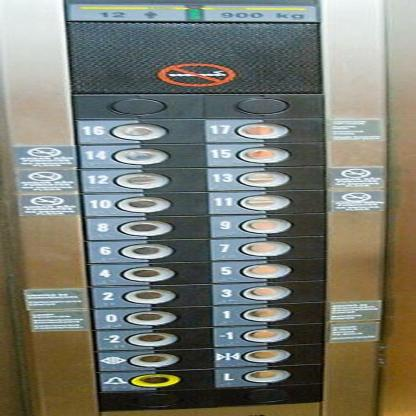-1: (208, 321, 334, 349)
-2: (84, 325, 221, 352)
0: (83, 304, 218, 331)
1: (207, 300, 330, 328)
10: (74, 190, 215, 219)
11: (204, 188, 330, 217)
12: (71, 166, 212, 195)
13: (200, 165, 331, 192)
14: (70, 143, 212, 170)
15: (201, 141, 330, 169)
16: (67, 118, 209, 146)
17: (200, 118, 330, 144)
2: (82, 283, 216, 310)
3: (204, 279, 332, 306)
4: (80, 260, 218, 288)
5: (204, 257, 334, 284)
6: (77, 236, 217, 266)
7: (204, 234, 332, 262)
8: (75, 213, 216, 242)
9: (204, 211, 332, 239)
L: (206, 362, 330, 389)
alarm: (89, 366, 218, 394)
close: (208, 342, 327, 370)
empty: (104, 97, 168, 116), (229, 96, 293, 115)
open: (86, 347, 220, 373)
